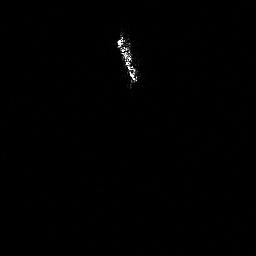ship: (117, 31, 140, 88)
